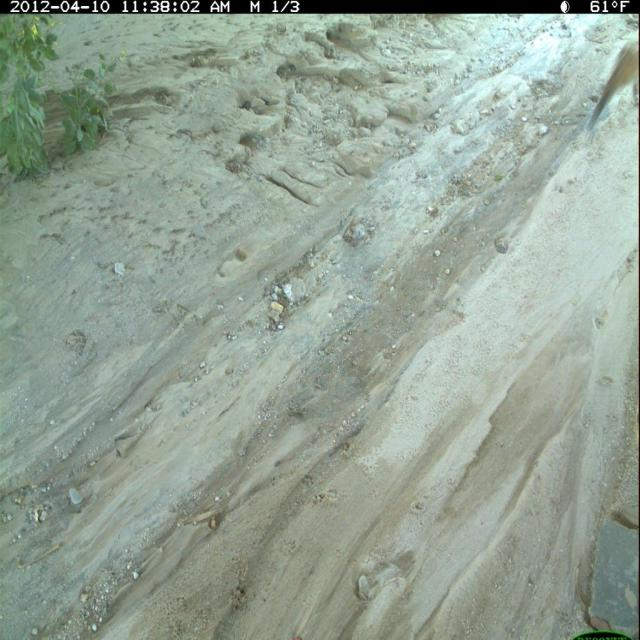bobcat: (587, 29, 640, 141)
